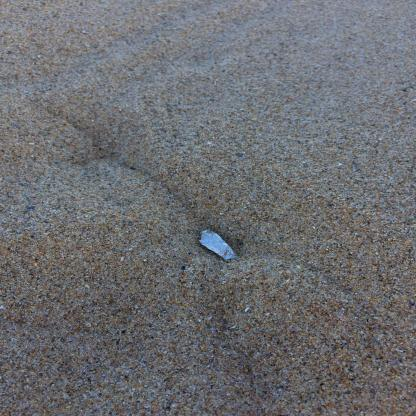metal: (198, 229, 238, 259)
